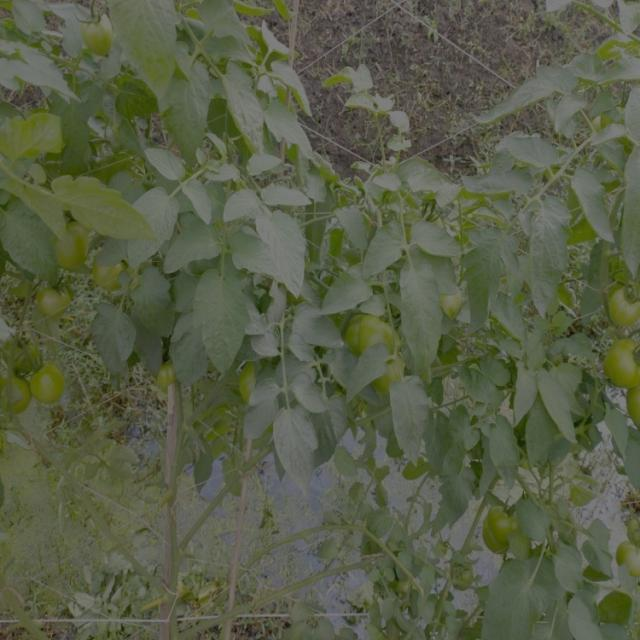tomato: (348, 307, 409, 361), (481, 497, 520, 554), (54, 220, 94, 274), (93, 251, 142, 295), (603, 335, 640, 385), (608, 277, 640, 332), (34, 366, 74, 410), (38, 277, 77, 322), (3, 377, 39, 425), (233, 359, 266, 409), (373, 359, 411, 396), (4, 332, 39, 371), (83, 20, 119, 57), (613, 543, 640, 584), (444, 289, 475, 320), (447, 558, 474, 590), (157, 362, 181, 395), (623, 387, 640, 431), (624, 509, 640, 551)
